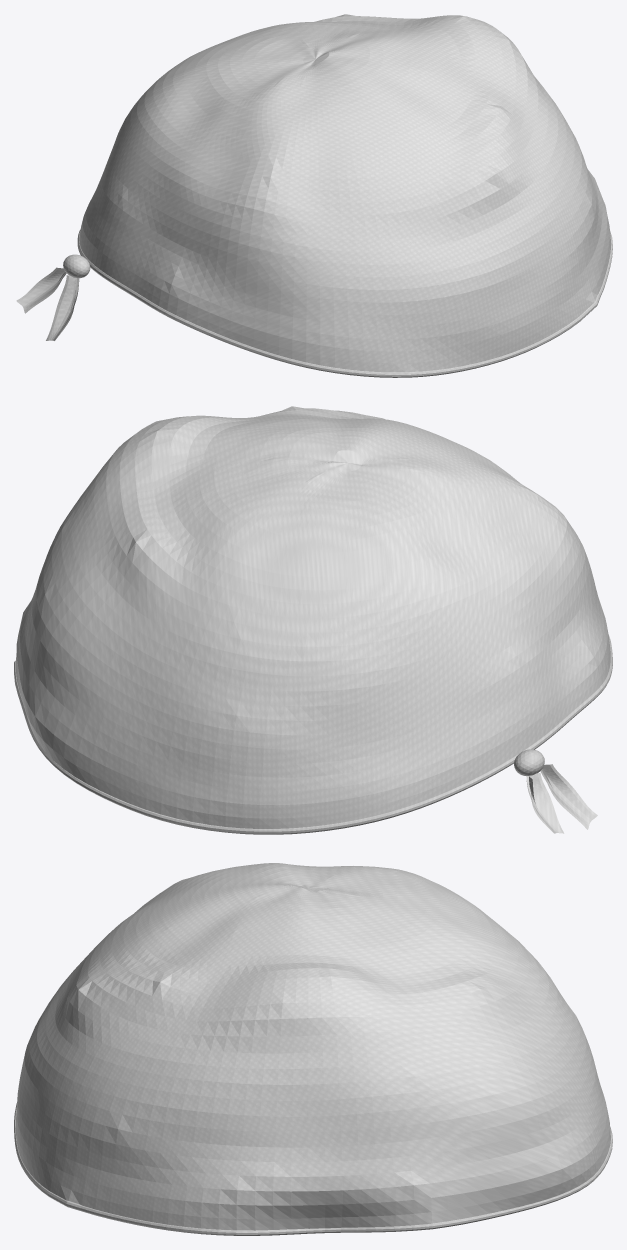
Rendered from side_pigeonkeeper_headcloth.glb.
3 views of the same model, one above another, from view 1: azimuth 30°, elevation 25°; view 2: azimuth 150°, elevation 25°; view 3: azimuth 270°, elevation 25° (orthographic). The views are drawn at different scales.
Visible parts, largest first — view 1: woven_cloth, folded_edge, wrap_ties; view 2: woven_cloth, folded_edge, wrap_ties; view 3: woven_cloth, folded_edge.
Part boxes in pixels (x1=…): woven_cloth: x1=79, y1=14, x2=611, y2=372; folded_edge: x1=63, y1=229, x2=612, y2=377; wrap_ties: x1=16, y1=267, x2=79, y2=340; woven_cloth: x1=16, y1=406, x2=610, y2=828; folded_edge: x1=14, y1=635, x2=612, y2=834; wrap_ties: x1=526, y1=764, x2=597, y2=833; woven_cloth: x1=15, y1=863, x2=610, y2=1230; folded_edge: x1=14, y1=1102, x2=612, y2=1235.
Bounding box in the file's own units: 17.47 × 8.53 × 16.83.
4 materials, 4 textured.
